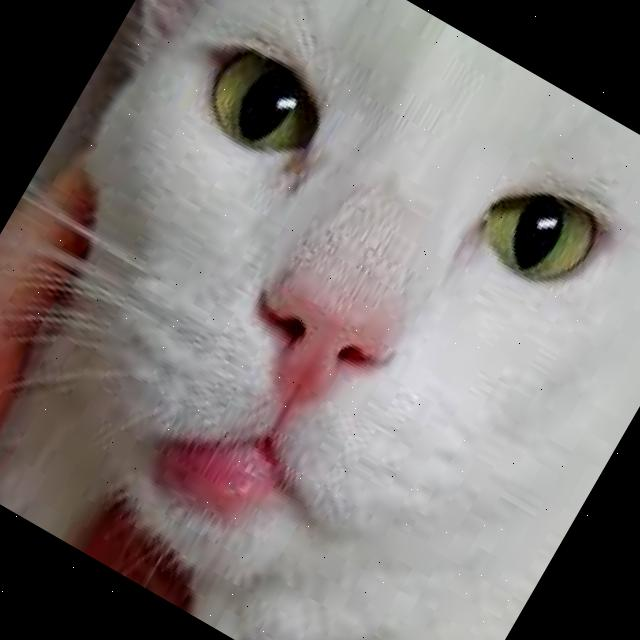cat-ulcer: (173, 426, 268, 516)
